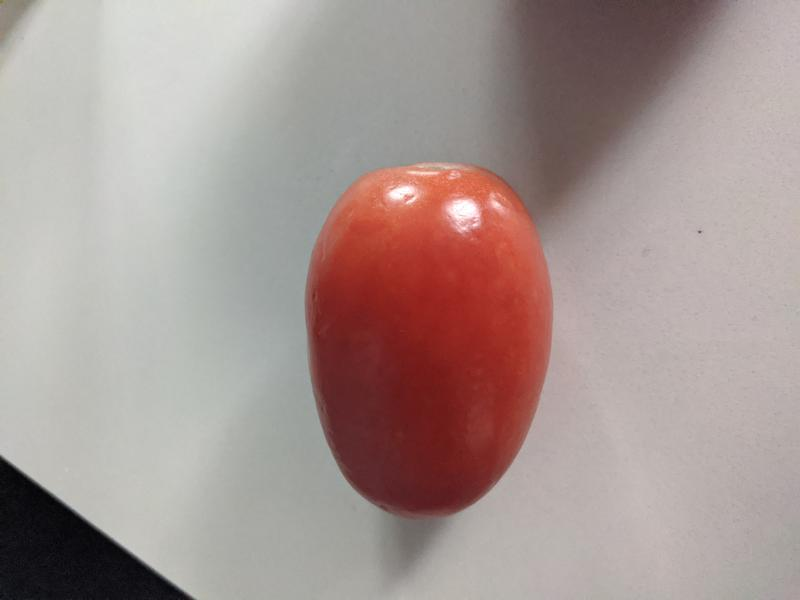tomato: (304, 162, 555, 519)
